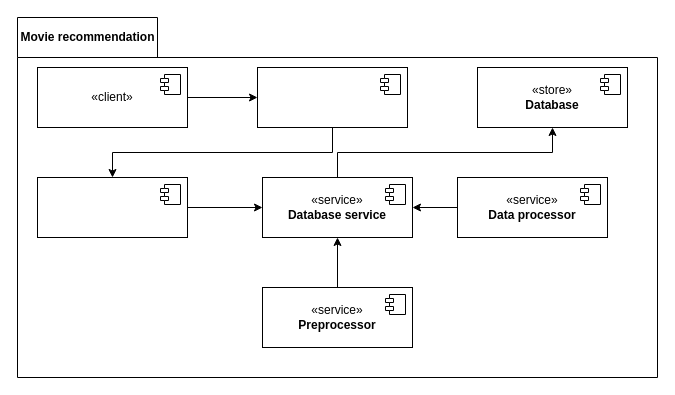
The diagram is 675 pixels wide and 395 high, and some of its shapes have lost their labels. The shapes that lost their labels are listed below. From the top down, each one's centre as x and y in pixels, then its label:
At (332,97): "«service» Controller".
At (112,207): "«service» Evaluation service".
